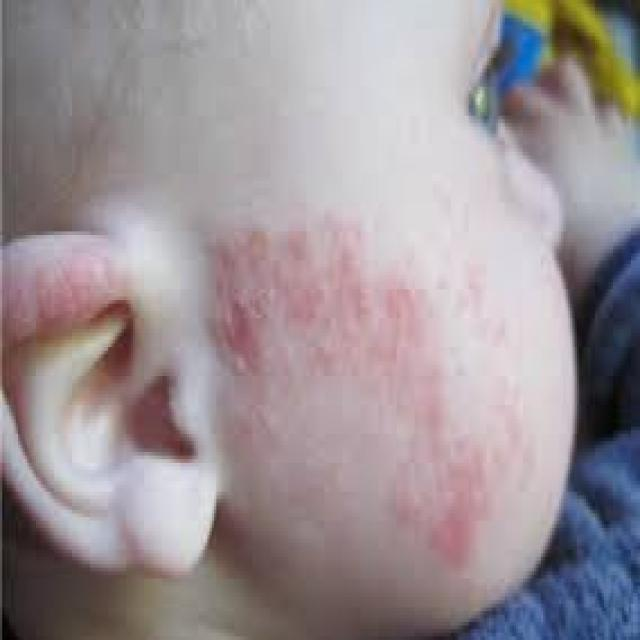Eczema: (207, 210, 530, 565)
